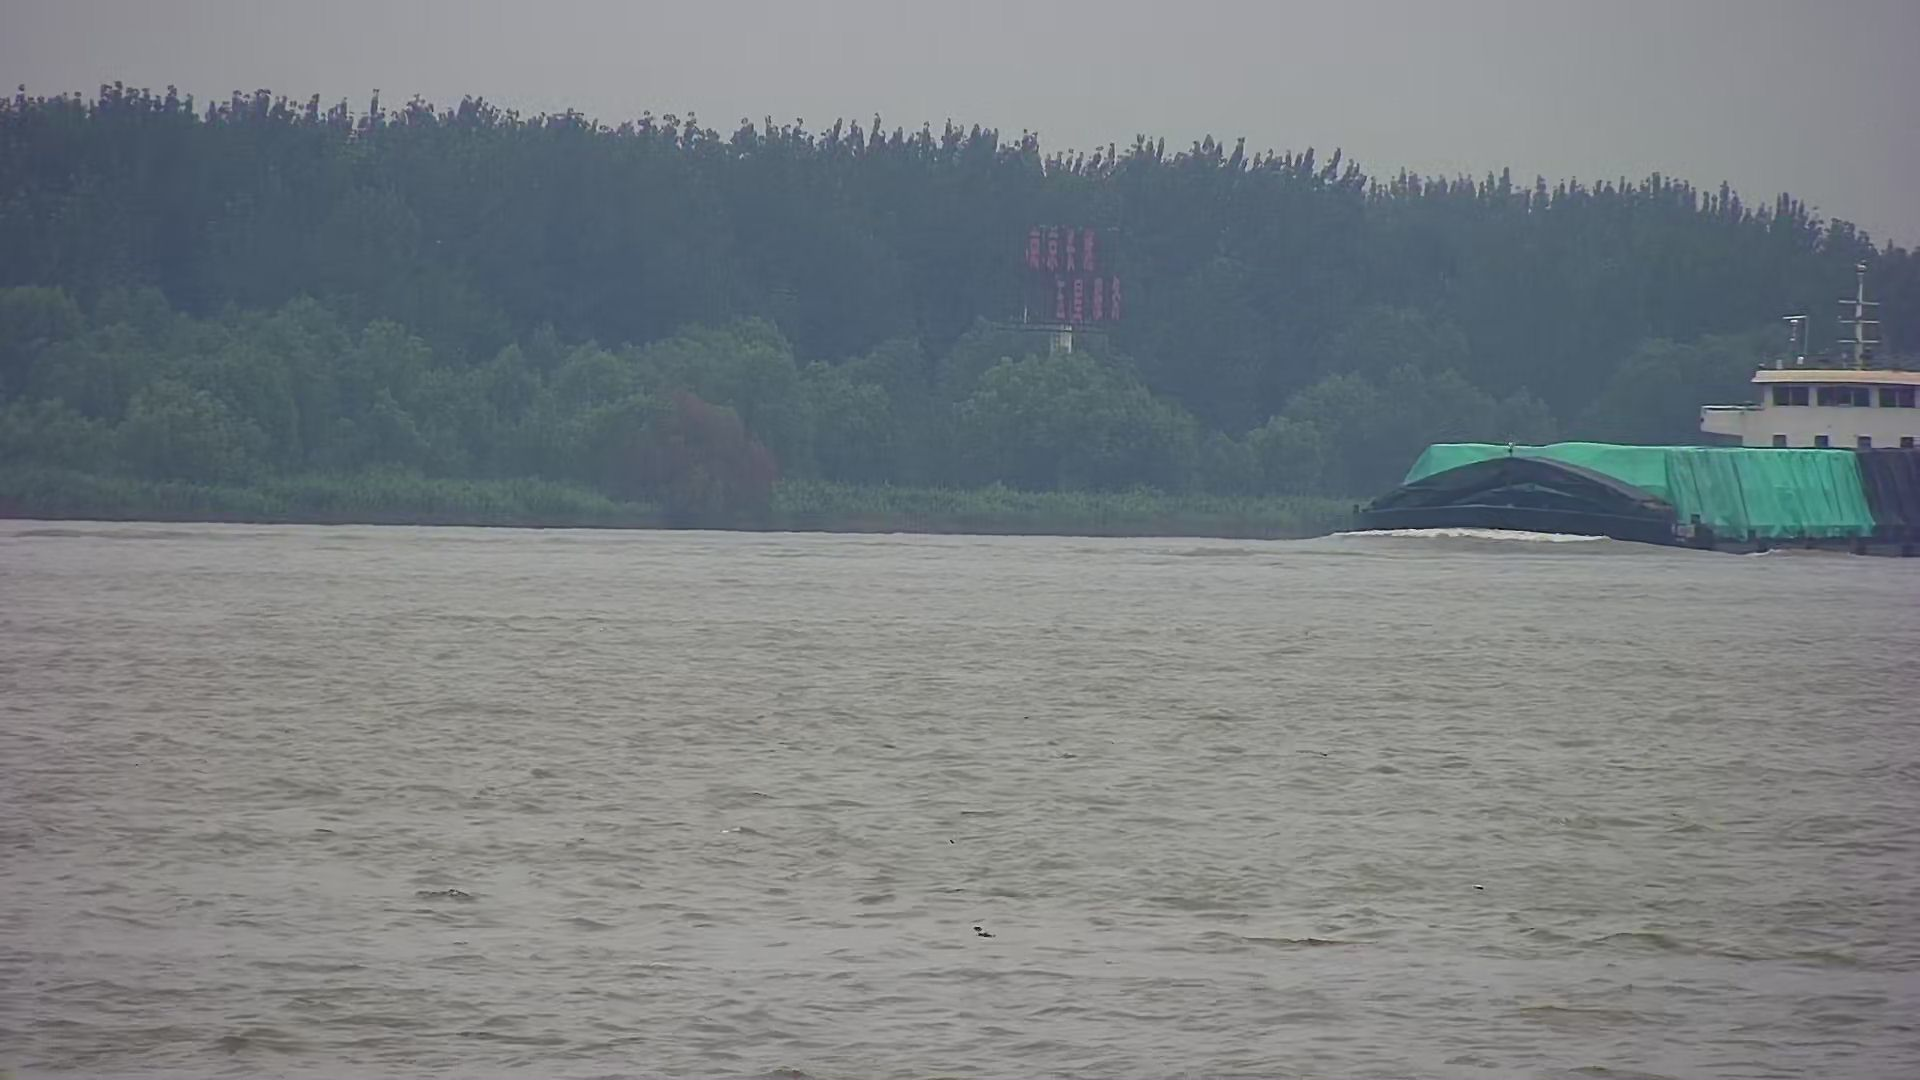ship: (1299, 244, 1920, 563)
